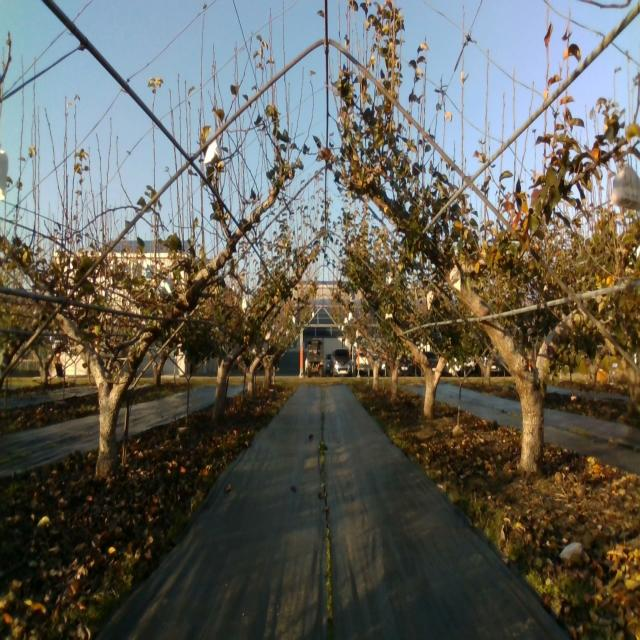pearbags: (611, 162, 640, 211), (204, 140, 222, 165), (449, 264, 462, 291), (156, 277, 172, 296)
